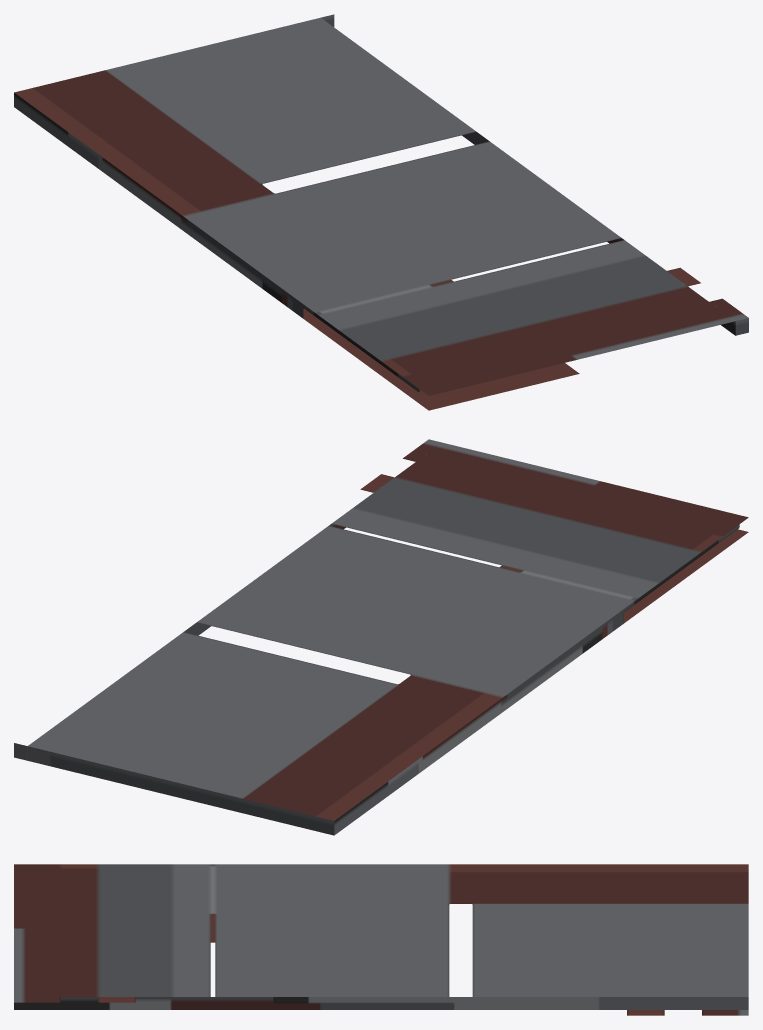
File: section-0.obj
3 renders of one model, top to bottom at view 1: azimuth 30°, elevation 25°; view 2: azimuth 150°, elevation 25°; view 3: azimuth 270°, elevation 25°, orthographic. The views are drawn at different scales.
Bounding box in the file's own units: 1.09 × 0.0477 × 2.45.
